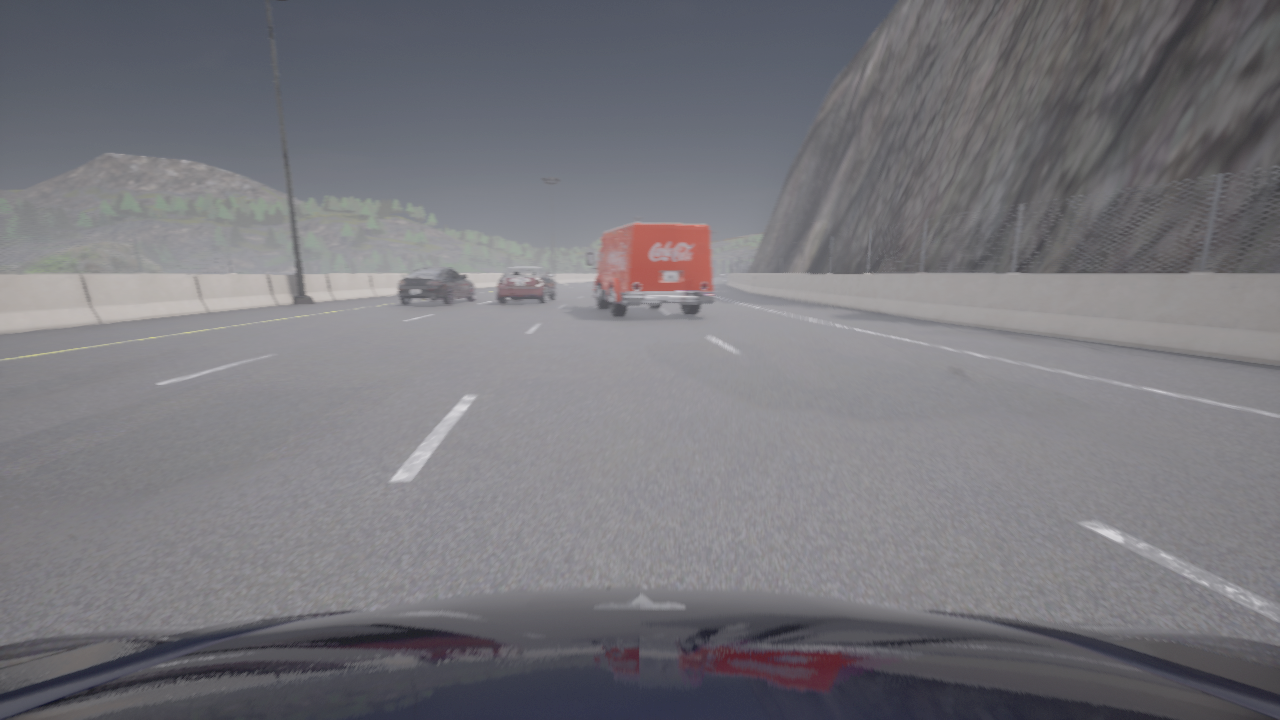cyclist: (0, 588, 1279, 719), (587, 223, 714, 317), (397, 267, 475, 305), (497, 267, 556, 304)
